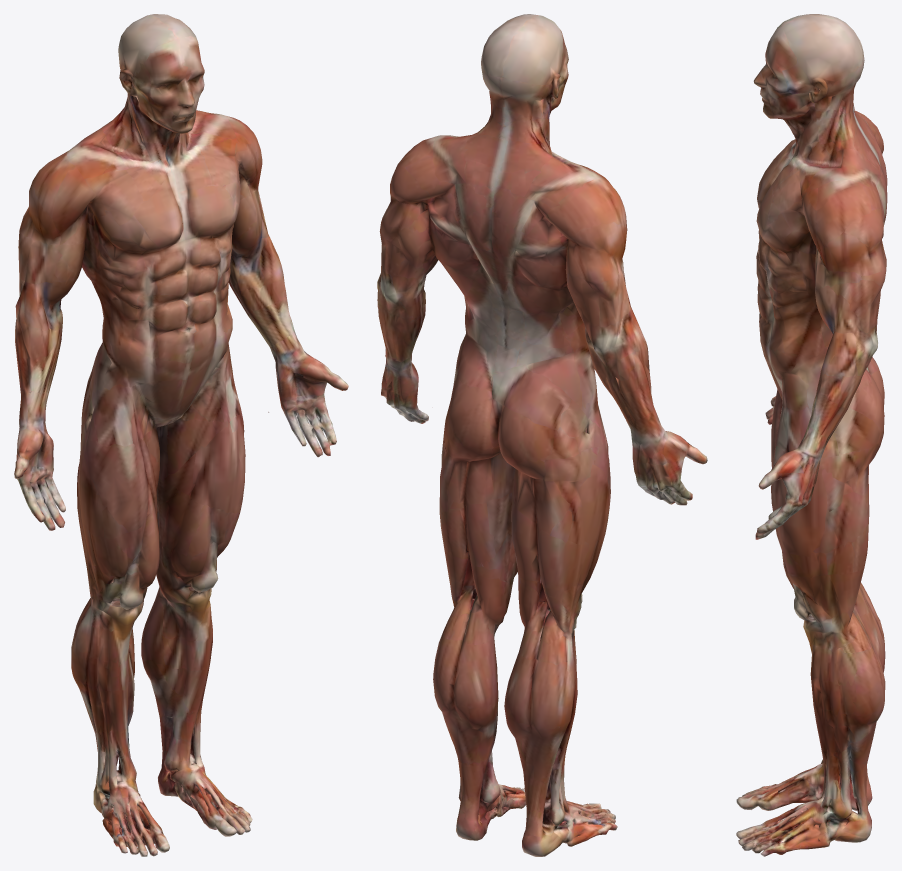
Rendered from body.glb.
3 views of the same model, side by side, from view 1: azimuth 30°, elevation 25°; view 2: azimuth 150°, elevation 25°; view 3: azimuth 270°, elevation 25° (orthographic).
Size of the model in its own units: 0.8019 by 1.9 by 0.3223.
Materials: 1 (1 with a texture image).
